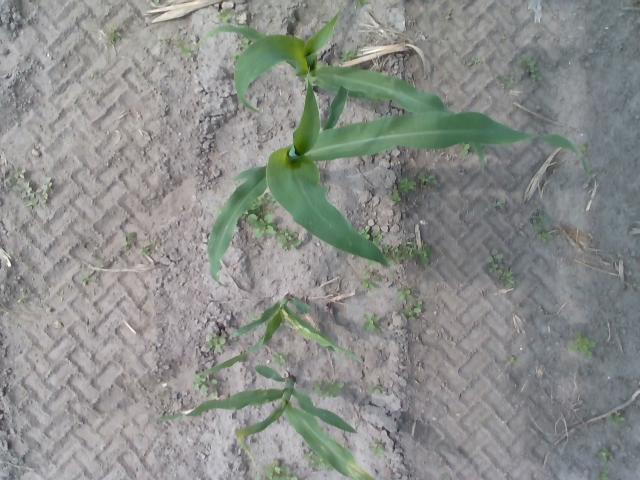Maize: (207, 70, 592, 288), (196, 9, 488, 172), (153, 364, 374, 480), (198, 293, 372, 381)
Weeds: (384, 239, 432, 264), (488, 250, 515, 284), (311, 376, 345, 398), (248, 214, 276, 238), (572, 332, 596, 358), (518, 56, 540, 80), (264, 462, 295, 477), (281, 230, 301, 250), (206, 333, 225, 352), (38, 177, 55, 197), (196, 378, 218, 392), (364, 314, 382, 330), (362, 272, 381, 287), (15, 184, 34, 199), (417, 174, 437, 186), (256, 200, 274, 213), (304, 454, 322, 466), (124, 232, 138, 247), (274, 352, 290, 364), (400, 179, 416, 191), (81, 273, 98, 284), (492, 202, 508, 213), (369, 380, 382, 393), (180, 43, 193, 56), (396, 286, 410, 298), (600, 448, 614, 460), (389, 186, 401, 200), (106, 27, 120, 39), (218, 10, 232, 22), (530, 208, 540, 222), (408, 304, 422, 313), (537, 230, 551, 238), (362, 225, 372, 236), (14, 169, 26, 178), (463, 143, 472, 155), (368, 442, 383, 449), (342, 52, 354, 60), (374, 236, 384, 245), (614, 411, 622, 422), (142, 245, 150, 255), (445, 14, 453, 24), (506, 76, 514, 84), (508, 355, 514, 364), (600, 474, 608, 480)
